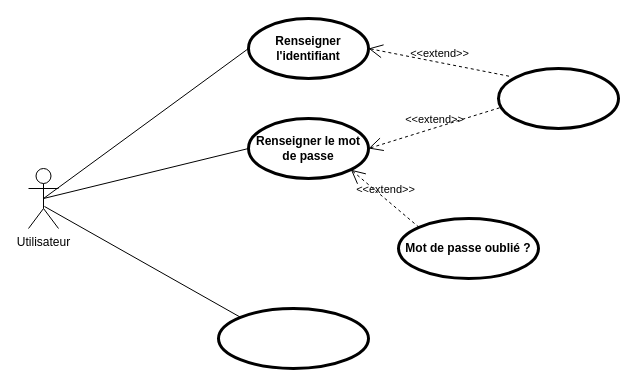
This 637x387 diagram has some shape labels left out. The box of each missing label's shape, as (x1, y1, x2, y2) in pixels:
Lien page : Création de compte: (216, 306, 370, 370)
Se connecter: (496, 66, 620, 130)
